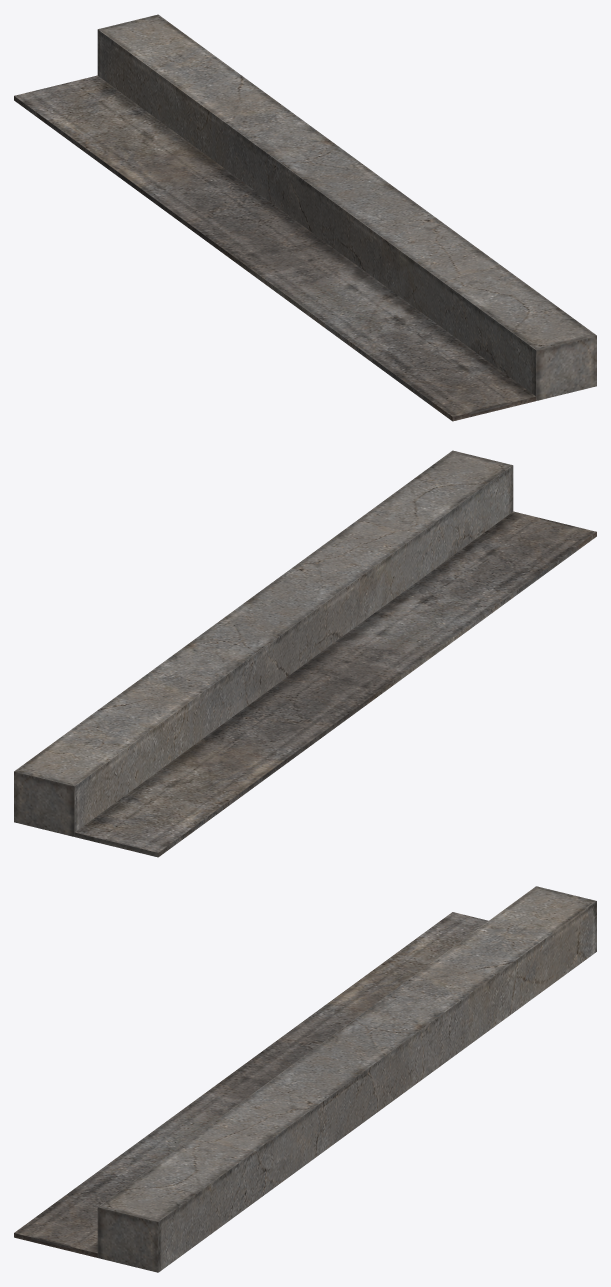
The model's file is CP_Curbstone_2m_01.fbx.
3 renders of one model, top to bottom at view 1: azimuth 30°, elevation 25°; view 2: azimuth 150°, elevation 25°; view 3: azimuth 330°, elevation 25°, orthographic.
Parts seen in each view (by area): view 1: CP_Curbstone_2m_01; view 2: CP_Curbstone_2m_01; view 3: CP_Curbstone_2m_01.
Part boxes in pixels (x1,y1,x2,y2): CP_Curbstone_2m_01: (14,14,596,421); CP_Curbstone_2m_01: (14,450,596,857); CP_Curbstone_2m_01: (14,886,596,1272).
Bounding box in the file's own units: 38 × 12.77 × 200.
